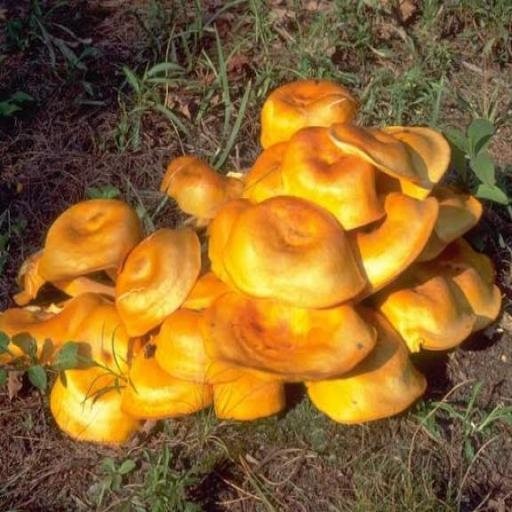Jack O Lantern Mushroom: (203, 278, 375, 390), (222, 190, 369, 319), (291, 311, 432, 418), (374, 253, 507, 353), (265, 121, 387, 230), (325, 188, 444, 295), (105, 221, 207, 331), (322, 114, 454, 199), (30, 355, 138, 450), (242, 71, 369, 148), (115, 330, 219, 417), (144, 296, 239, 384), (45, 196, 140, 281), (414, 181, 481, 249)
